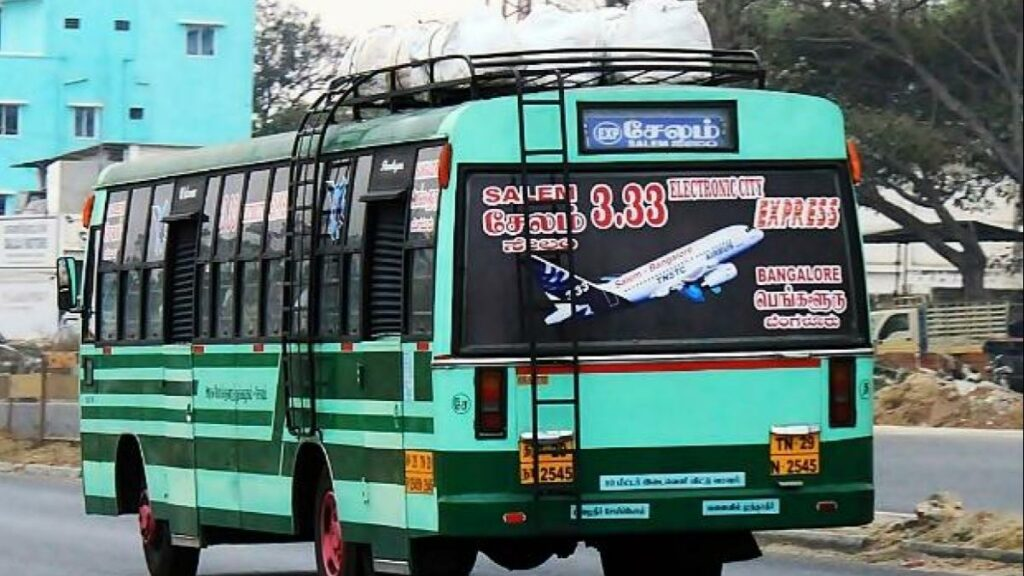bus: (57, 52, 890, 576)
numberplate: (760, 414, 844, 481)
